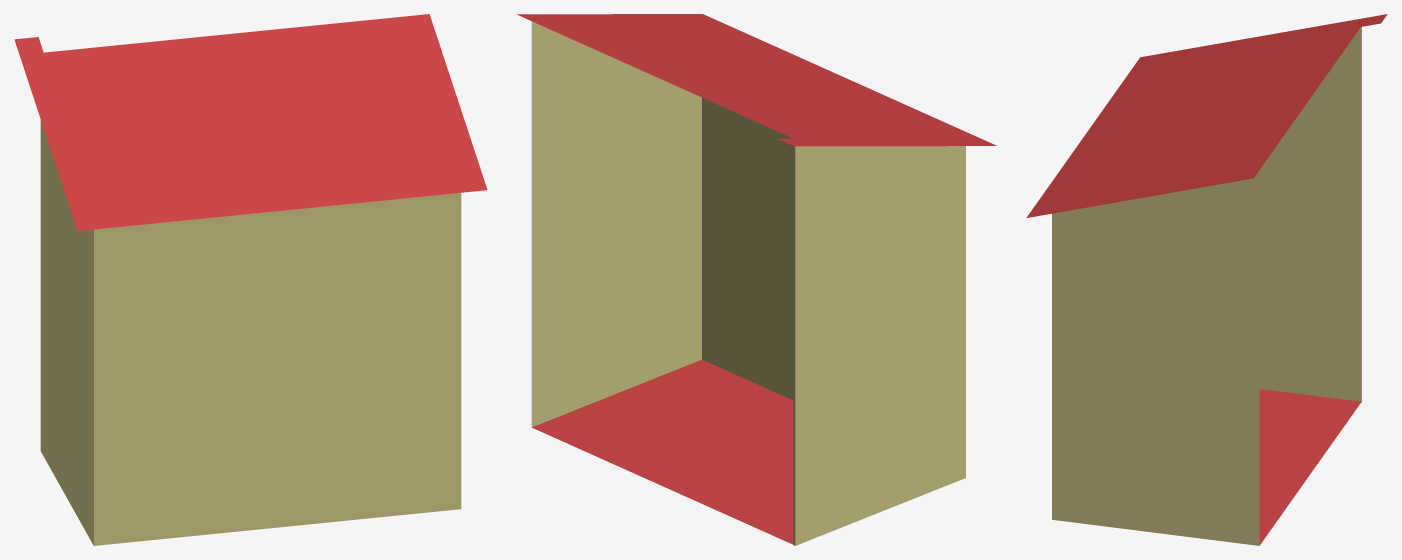
The picture shows the model from 3 angles, left to right: view 1: azimuth 30°, elevation 25°; view 2: azimuth 150°, elevation 25°; view 3: azimuth 270°, elevation 25°; orthographic projection. The views are drawn at different scales.
Size of the model in its own units: 10.85 by 8.74 by 10.19.
